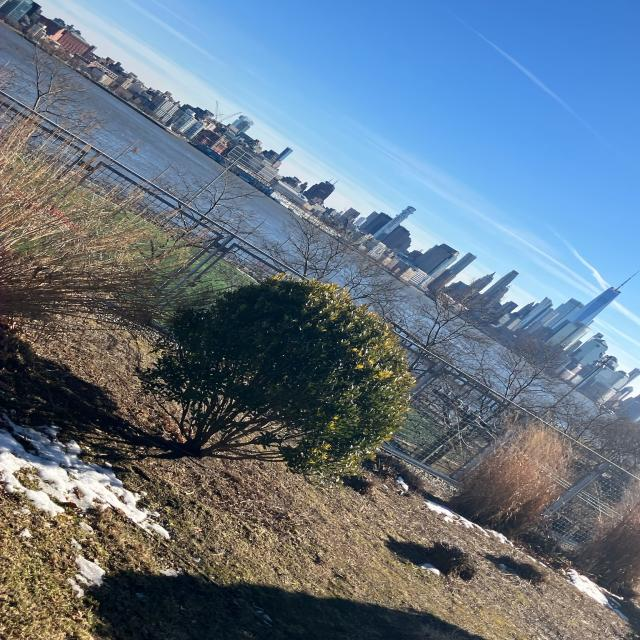WTC: (571, 268, 640, 326)
